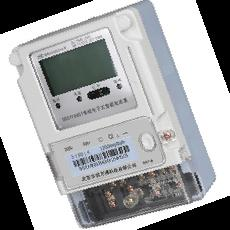digital: (12, 6, 183, 194)
